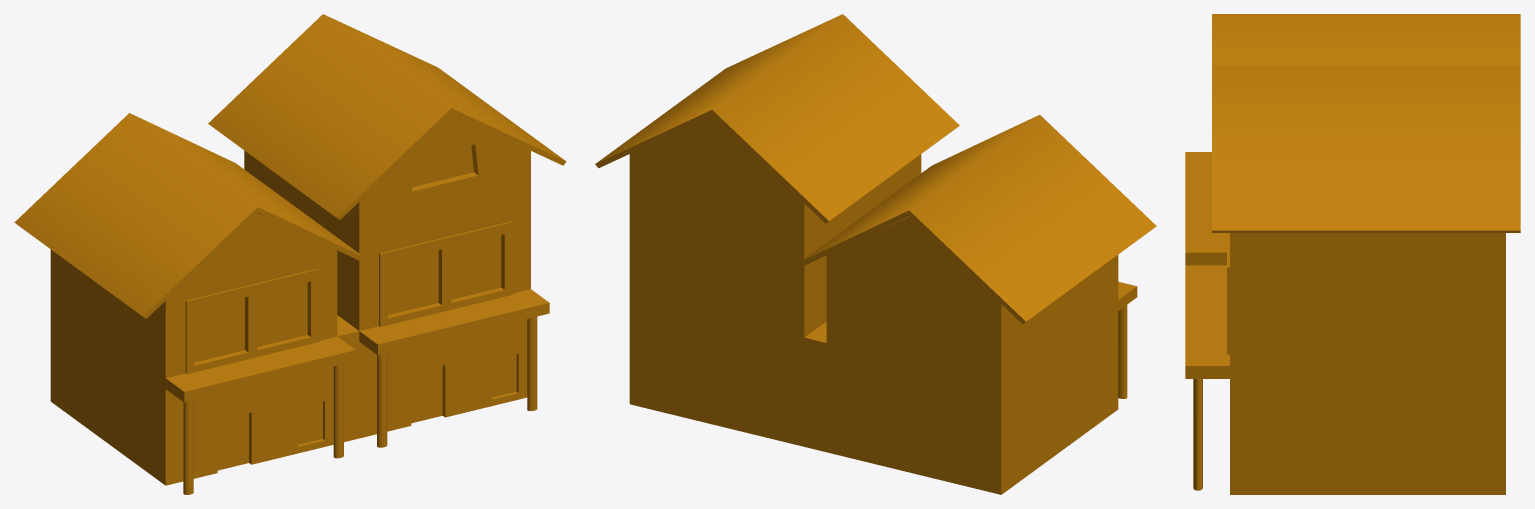
Rendered from TownHouse.FBX.
3 renders of one model, left to right at view 1: azimuth 30°, elevation 25°; view 2: azimuth 150°, elevation 25°; view 3: azimuth 270°, elevation 25°, orthographic. The views are drawn at different scales.
Visible parts, largest first — view 1: TownHouse; view 2: TownHouse; view 3: TownHouse.
Part boxes in pixels (x1,y1,x2,y2): TownHouse: (14, 14, 566, 494); TownHouse: (595, 14, 1156, 494); TownHouse: (1185, 14, 1520, 494).
Size of the model in its own units: 1061 by 605 by 754.
